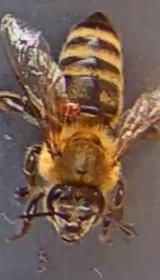varroa_mite: (53, 86, 85, 122)
